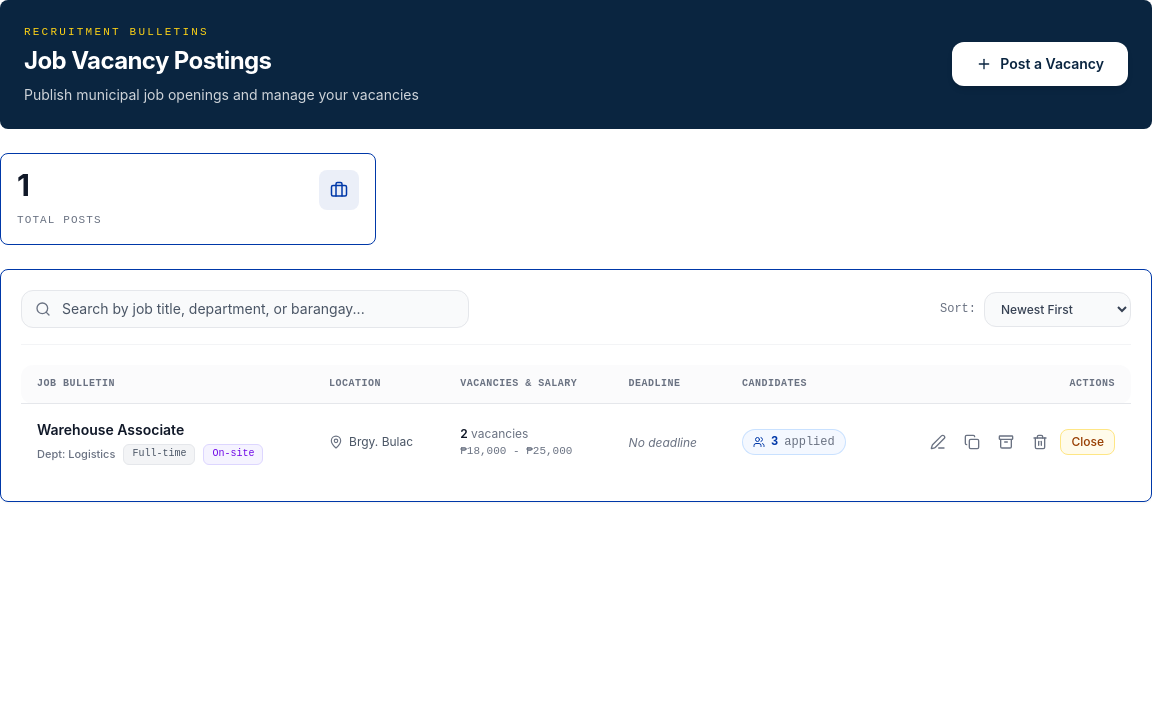
JobPosts accessibility › announces action errors in a live region
Step 1. Click the button "Close" → (1088, 442), box [1060,429,1115,455]
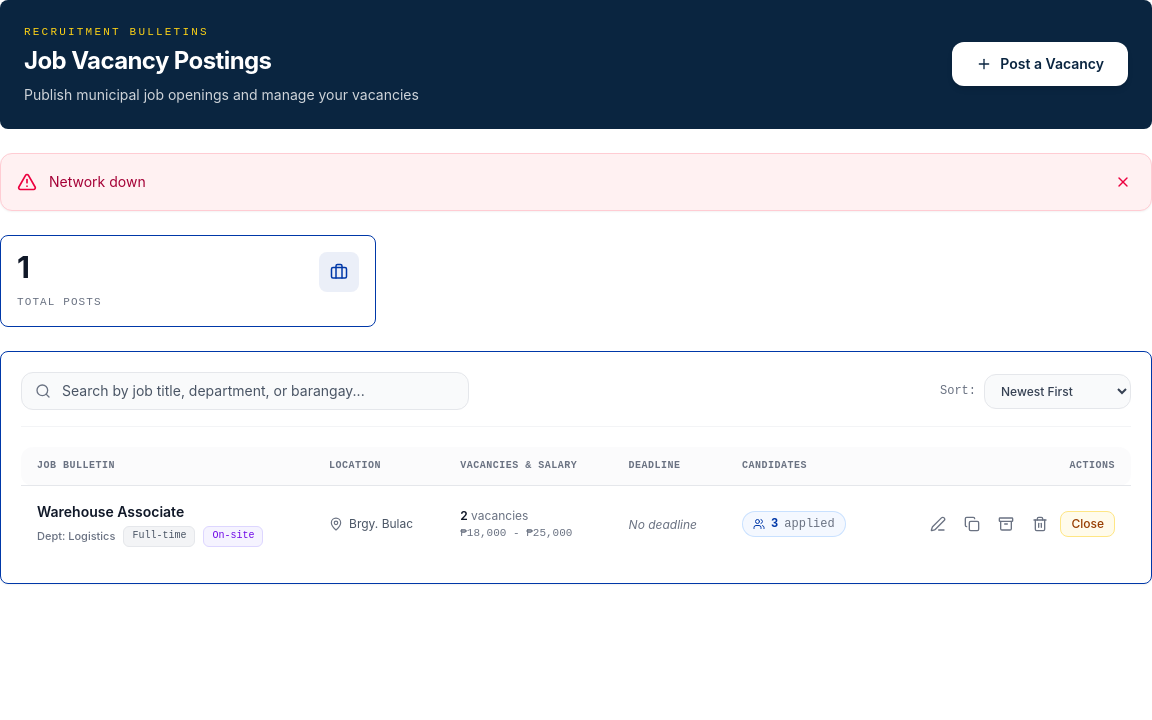
Now the message reads "Network down", box [49,172,146,190]
